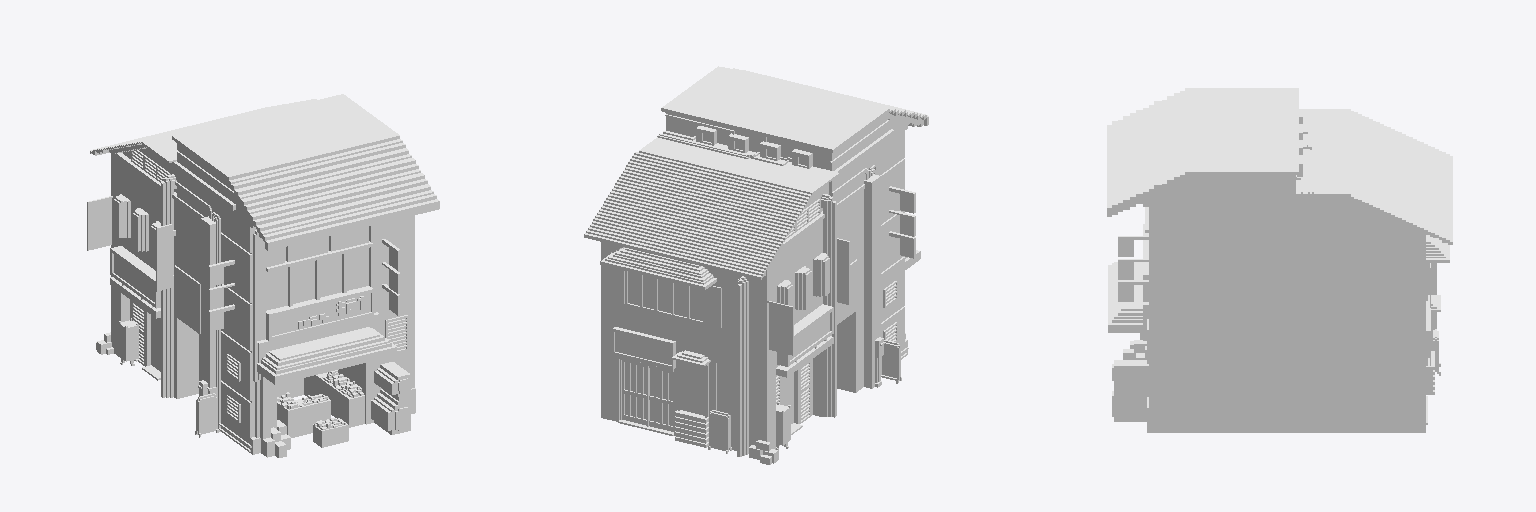
File: GDS2_Market-2.obj
3 renders of one model, left to right at view 1: azimuth 30°, elevation 25°; view 2: azimuth 150°, elevation 25°; view 3: azimuth 270°, elevation 25°, orthographic.
Visible parts, largest first — view 1: GDS2_Market-2; view 2: GDS2_Market-2; view 3: GDS2_Market-2.
Part boxes in pixels (x1,y1,x2,y2): GDS2_Market-2: (87, 94, 439, 457); GDS2_Market-2: (584, 66, 928, 464); GDS2_Market-2: (1107, 88, 1452, 432).
Bounding box in the file's own units: 12.2 × 15.8 × 18.9.